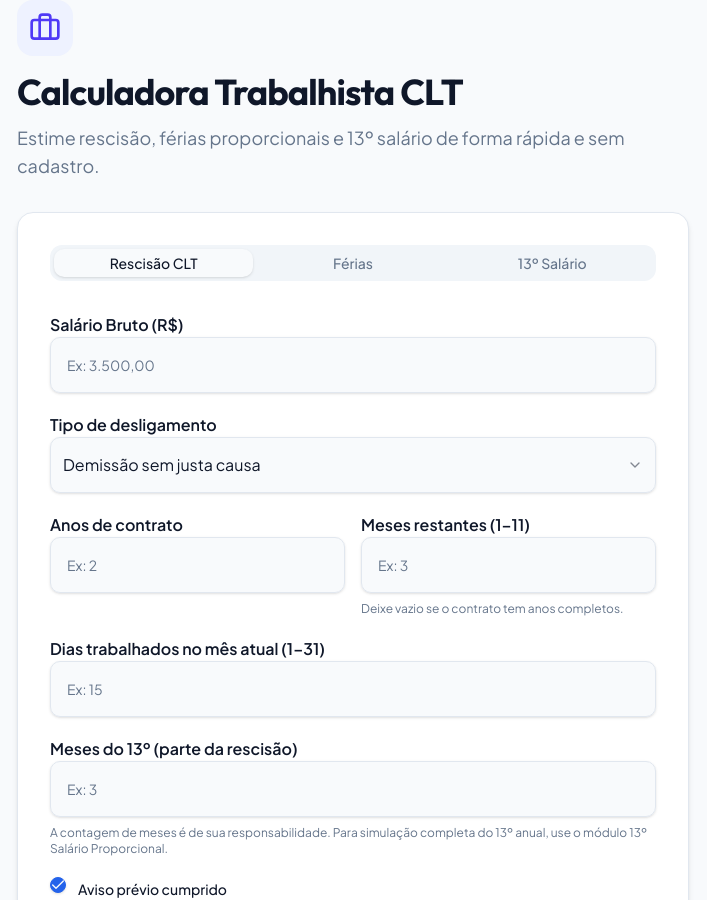
Scenario: 5.1 — showAvisoMeses13: aviso leve de meses_13 incoerente › aviso aparece quando meses13 > mesesTotais (ex: meses13=5, anos=0, meses=3 → 3 meses)
In the number field labelled "Anos de contrato": (198, 565) [50,537,345,593], type "0"
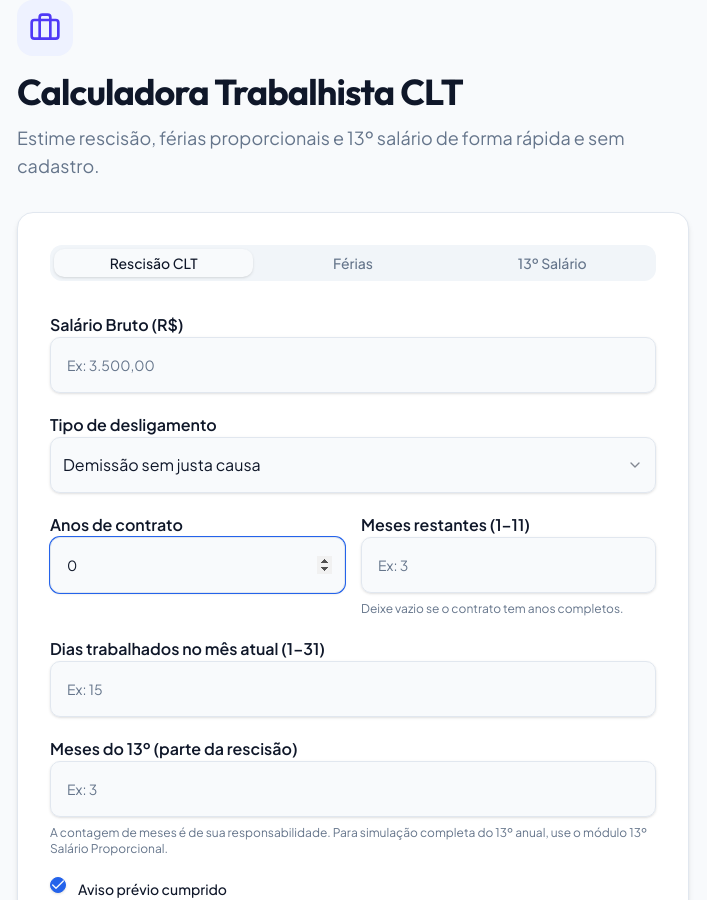
In the number field labelled "Meses restantes (1–11)": (508, 565) [361,537,656,593], type "3"
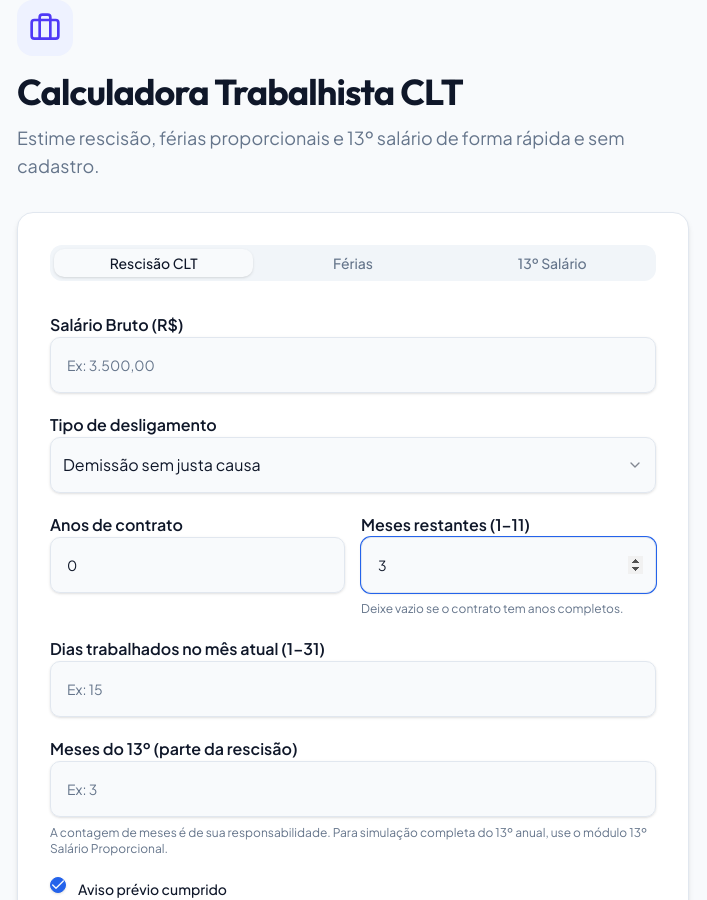
In the number field labelled "Meses do 13º (parte da rescisão)": (353, 789) [50,761,656,817], type "5"
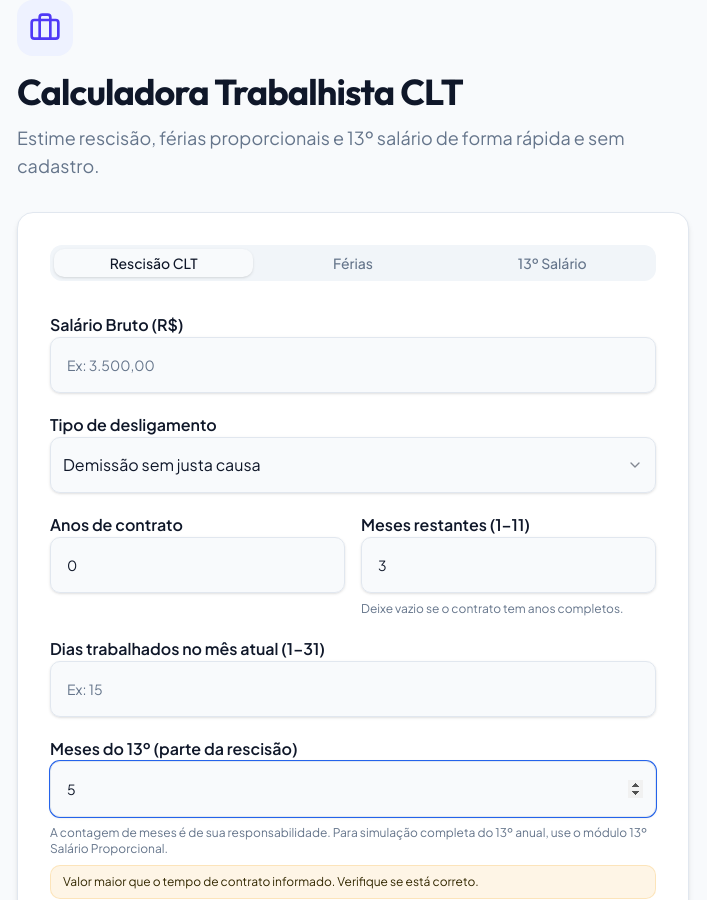
Check: the text "Valor maior que o tempo de contrato informado. Verifique se está correto." is shown, box [50,865,656,899]
